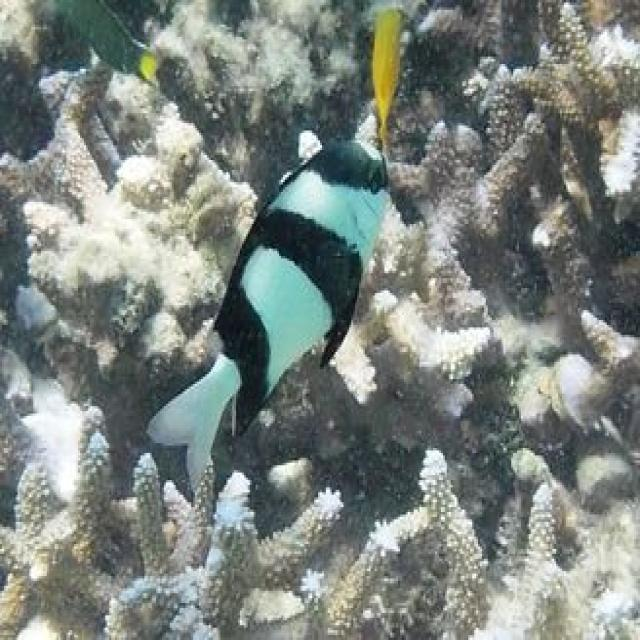ThreeStripedDamselfish: (146, 140, 390, 485)
